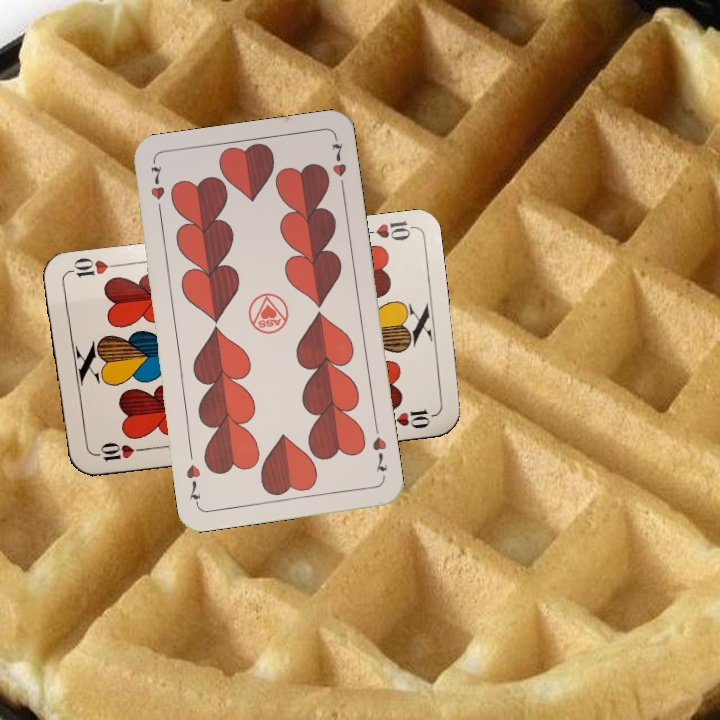H10: (355, 217, 414, 244), (89, 439, 148, 464)
H7: (146, 159, 167, 218), (368, 421, 390, 474)
